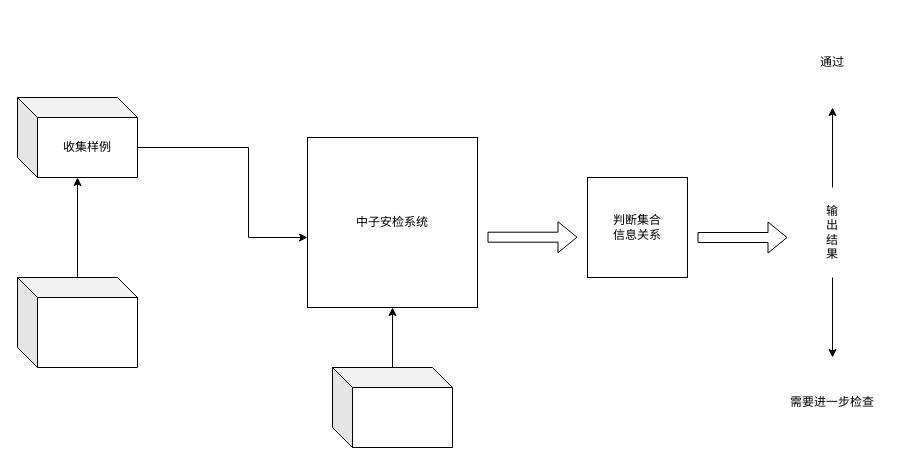
Some shapes in this 905 by 465 pixel diagram are drawn without their labels. The box of each missing label's shape, as (x1, y1, x2, y2) in pixels:
待检物品: (332, 366, 452, 448)
统计违禁品: (16, 276, 138, 368)
